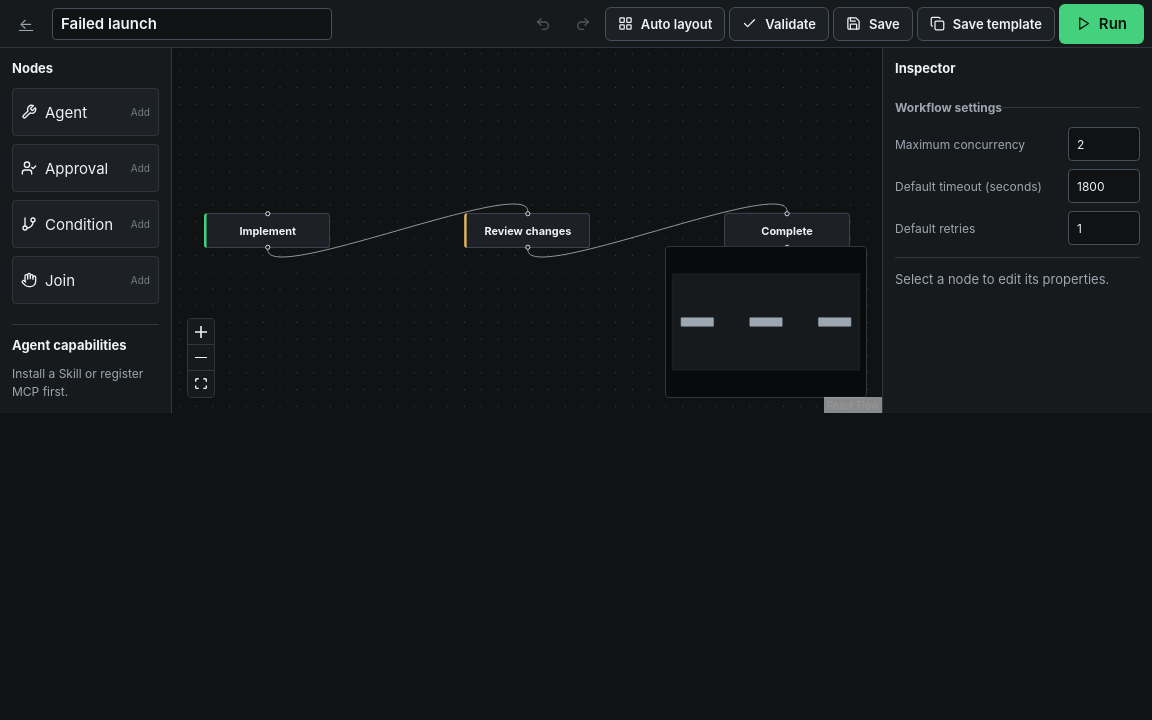
Scenario: WorkflowEditorPage › shows a launch failure without navigating away from the editor
Expected: the field showing "Failed launch" is shown, [52,8,332,40]
Click the button "Run": click(1101, 24) [1059,4,1144,44]
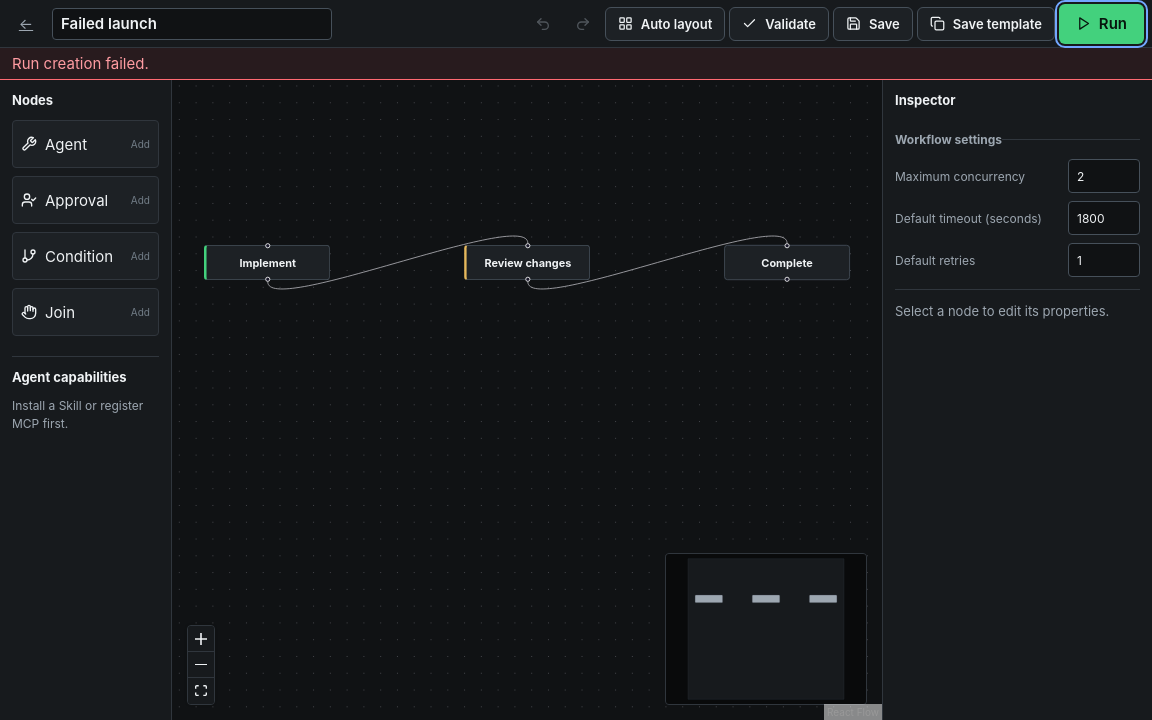
Expected: the field showing "Failed launch" is shown, [52,8,332,40]
Expected: the message reads "Run creation failed.", [12,54,149,73]
